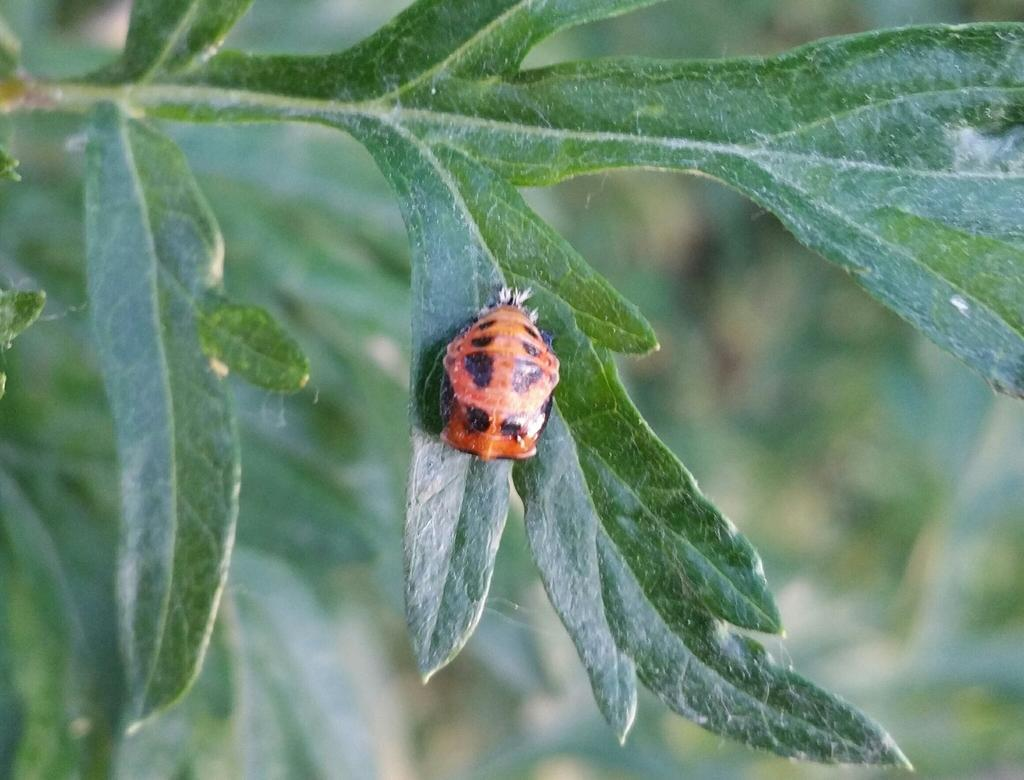ladybug: (437, 285, 569, 465)
